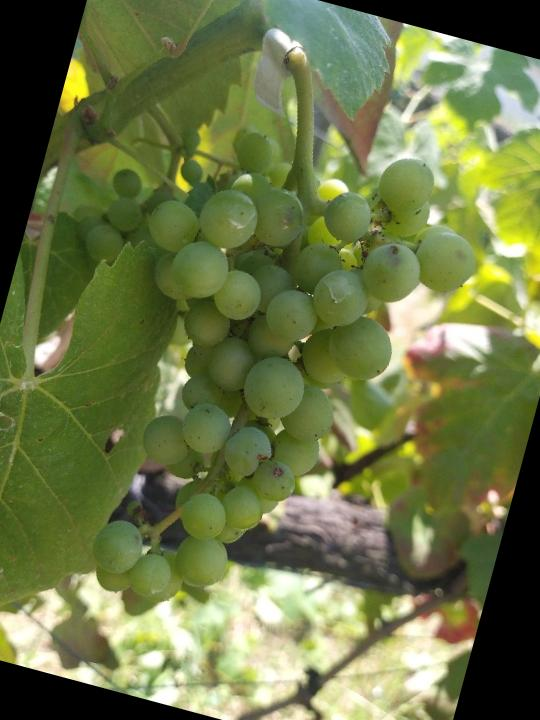grape: (48, 91, 506, 669)
